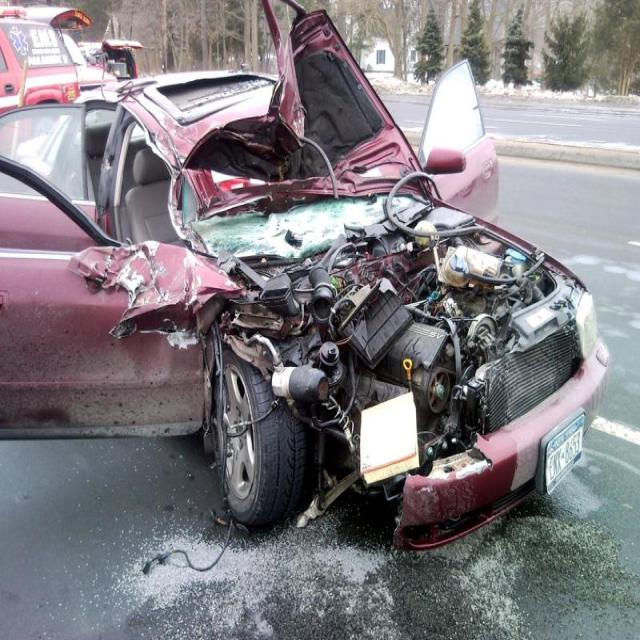crush: (67, 0, 585, 542)
